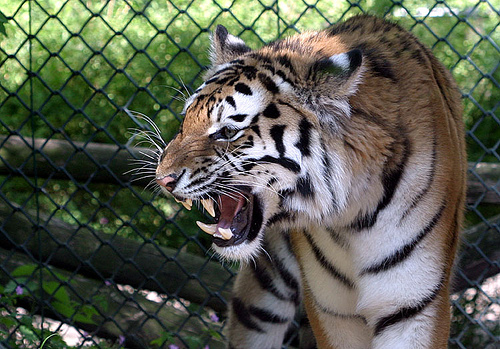Tigre: (138, 14, 469, 349)
